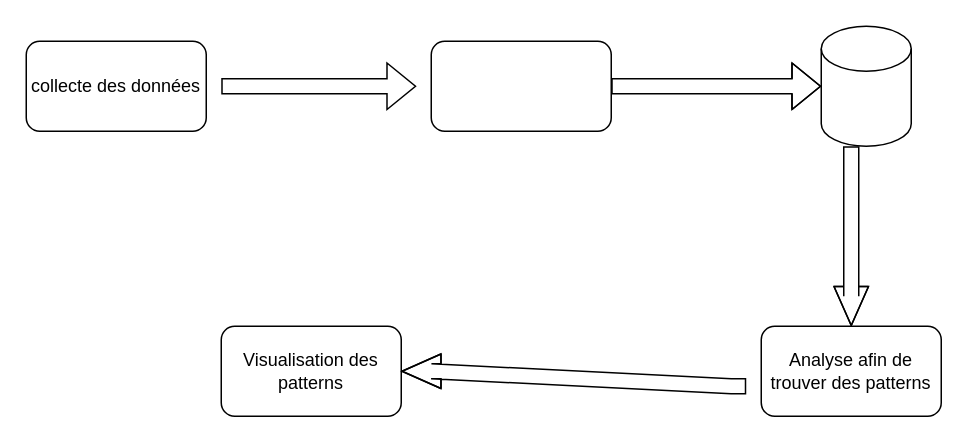
Some shapes in this 968 by 443 pixel diagram are drawn without their labels. Each missing label, with the centre of its shape:
Database Mongo DB: point (865, 85)
Preprocessing: point (520, 85)
